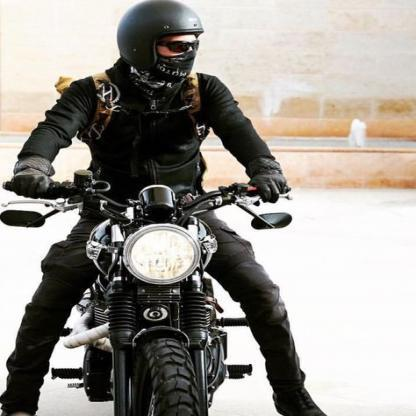helmet: (116, 0, 205, 86)
